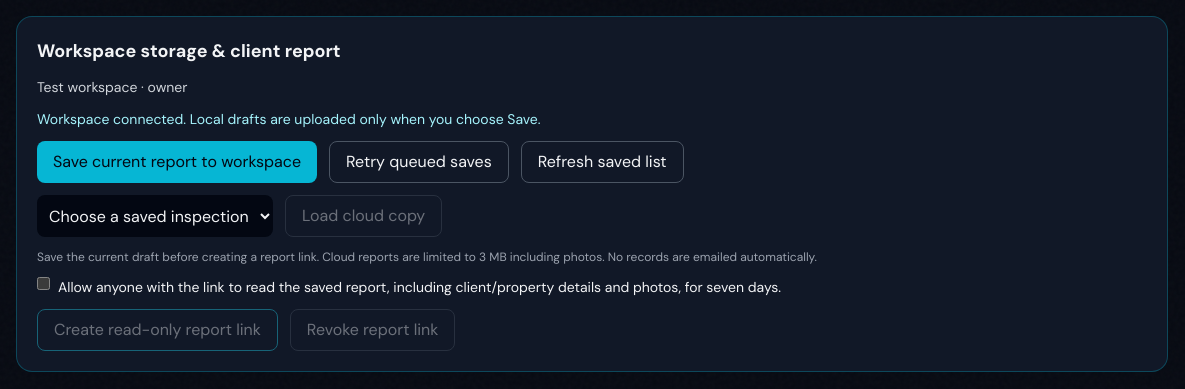
Test: removes queued data only after acknowledgement and requires sharing consent
Click the button "Save current report to workspace".
click(177, 162)  # box [37,141,317,183]
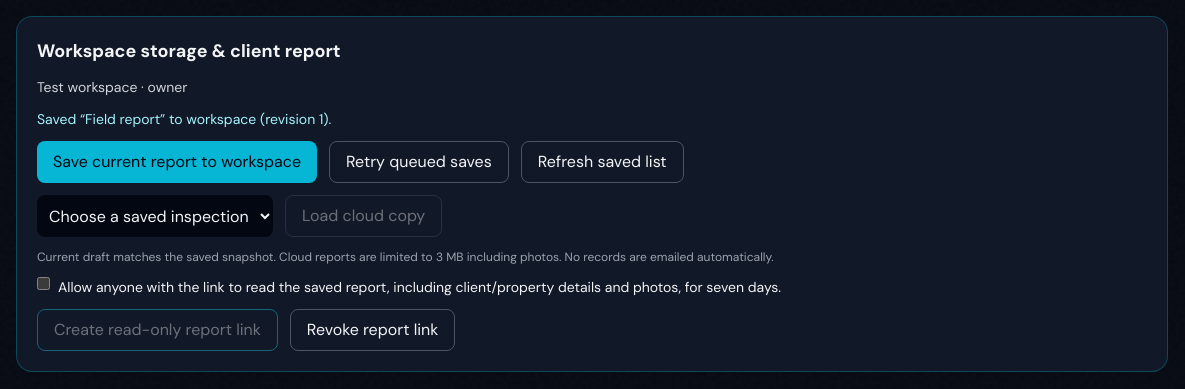
Expected: the button "Create read-only report link" is disabled, [37,309,278,351]
Expected: the text "Current draft matches the saved snapshot." is shown, [37,249,276,265]
Click the checkbox.
click(44, 284)  # box [37,277,50,290]
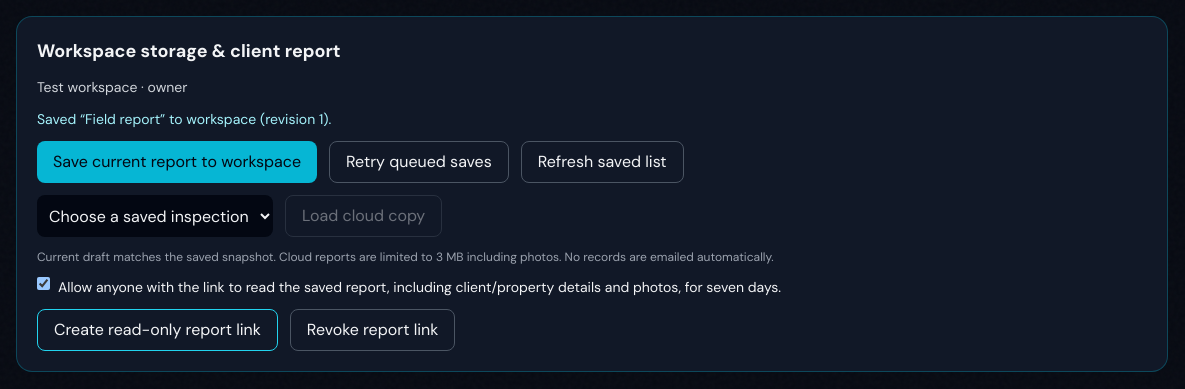
Expected: the button "Create read-only report link" is enabled, [37,309,278,351]
